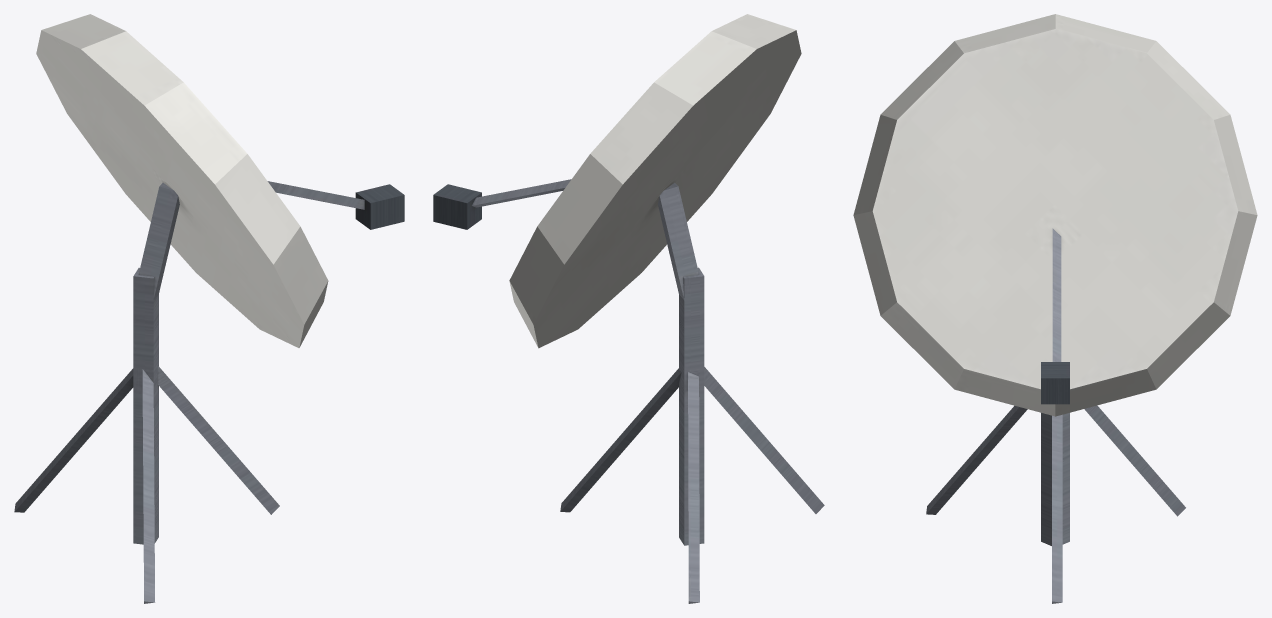
The model's file is parabol_tex.glb.
3 renders of one model, left to right at view 1: azimuth 30°, elevation 25°; view 2: azimuth 150°, elevation 25°; view 3: azimuth 270°, elevation 25°, orthographic. The views are drawn at different scales.
Visible parts, largest first — view 1: parabol; view 2: parabol; view 3: parabol.
Boxes of the visible parts, left/top/right/bottom form: parabol: left=14, top=14, right=404, bottom=603; parabol: left=433, top=14, right=824, bottom=603; parabol: left=853, top=14, right=1257, bottom=603.
Bounding box in the file's own units: 0.7544 × 1.16 × 0.84.
3 materials, 3 textured.
